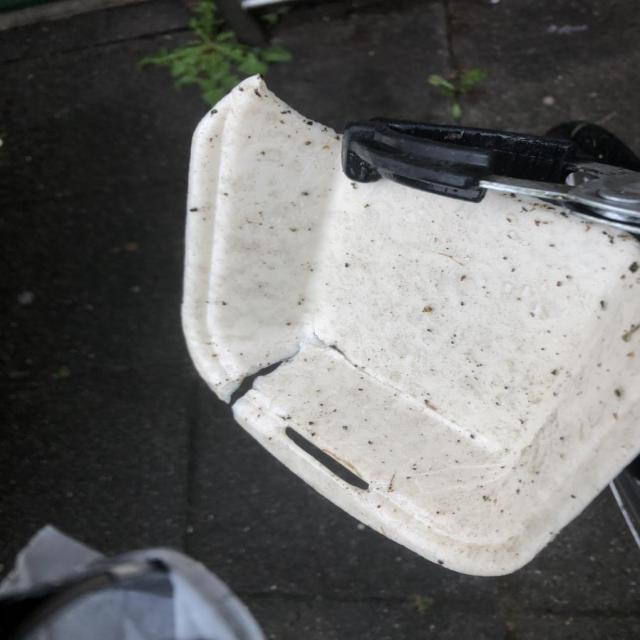Plastic: (175, 66, 640, 584)
